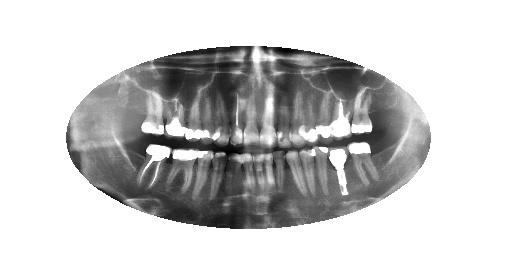Fillings: (165, 148, 198, 192), (347, 141, 379, 184), (350, 86, 375, 136), (141, 89, 166, 137), (191, 148, 215, 196), (299, 92, 319, 142), (187, 92, 205, 143), (168, 91, 186, 138), (315, 91, 331, 138)
Implant: (136, 143, 173, 189), (328, 145, 351, 198), (330, 92, 353, 141)
